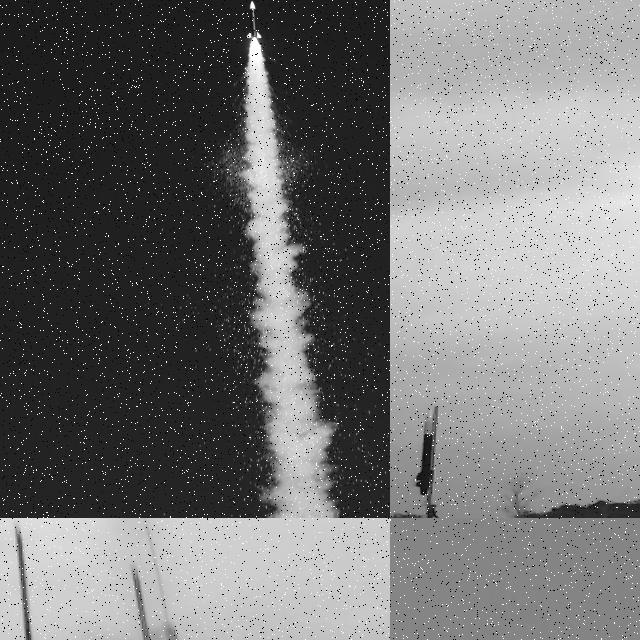Rocket: (414, 407, 434, 495), (247, 0, 262, 39)
